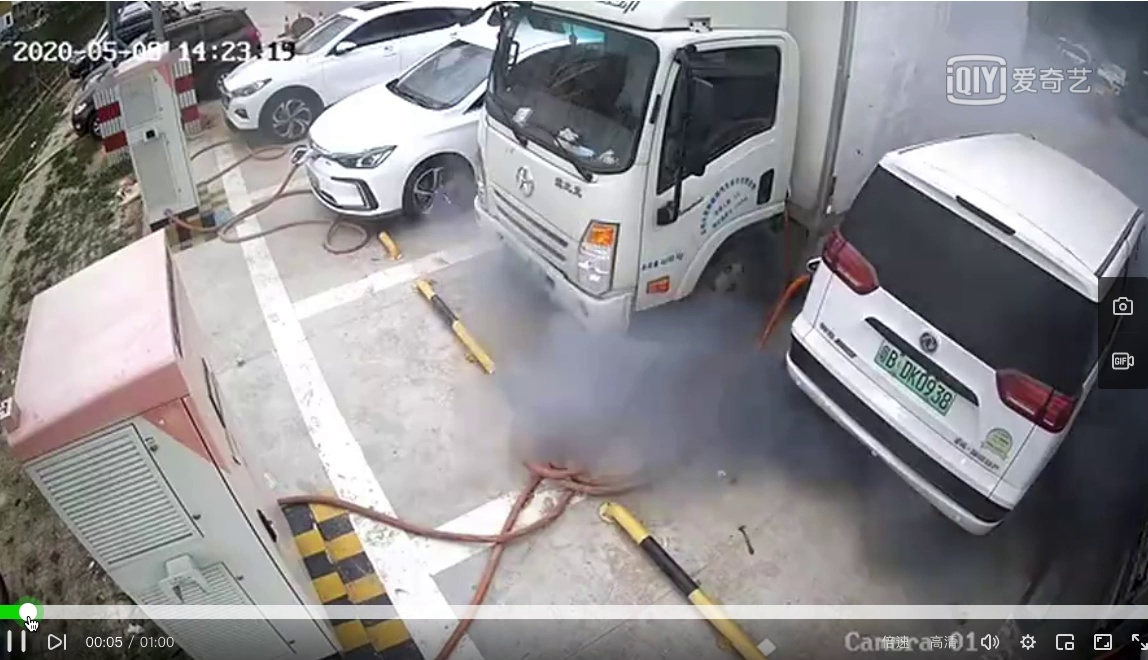smoke: (480, 269, 819, 471)
